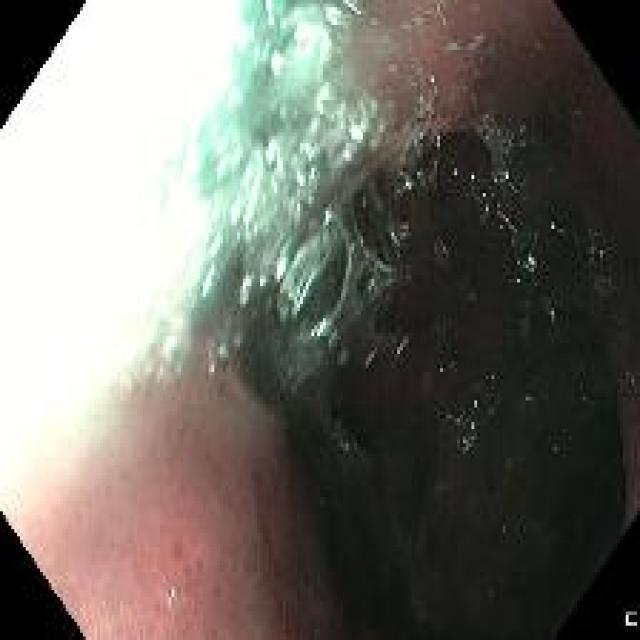bubbles: (277, 207, 362, 351), (473, 109, 525, 189), (399, 120, 443, 191), (443, 403, 489, 458), (352, 261, 384, 308), (414, 89, 436, 120), (582, 244, 608, 267), (160, 587, 182, 609), (495, 508, 511, 538), (620, 363, 635, 395), (485, 581, 503, 606), (510, 270, 528, 293), (521, 386, 535, 414), (575, 392, 591, 410), (387, 60, 401, 79), (487, 400, 498, 422), (551, 442, 563, 460), (473, 394, 483, 414)
color misalignment: (201, 2, 384, 397)
contrast: (361, 140, 638, 637)
saturation: (0, 2, 246, 562)
specularity: (292, 20, 331, 59), (292, 262, 311, 316), (247, 170, 261, 226), (236, 274, 257, 310), (308, 313, 331, 339), (201, 264, 218, 296), (494, 512, 512, 539), (227, 195, 242, 226), (268, 46, 284, 75), (274, 252, 288, 285), (522, 385, 535, 413), (264, 137, 280, 159), (523, 253, 537, 275), (548, 217, 562, 239), (448, 163, 462, 183), (257, 271, 269, 293), (471, 392, 483, 414), (399, 176, 415, 192), (548, 303, 559, 324), (501, 168, 514, 181), (468, 168, 480, 182), (426, 72, 437, 85), (437, 366, 446, 377), (482, 202, 489, 216), (480, 189, 486, 201)
